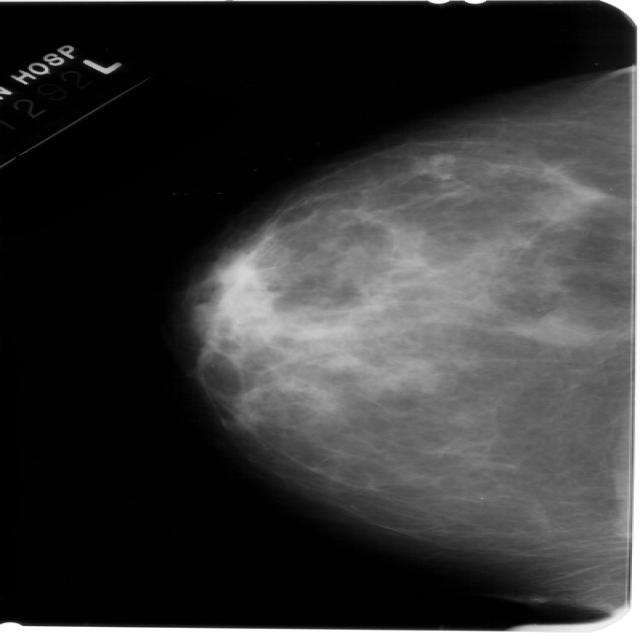tumour: (510, 311, 600, 346)
